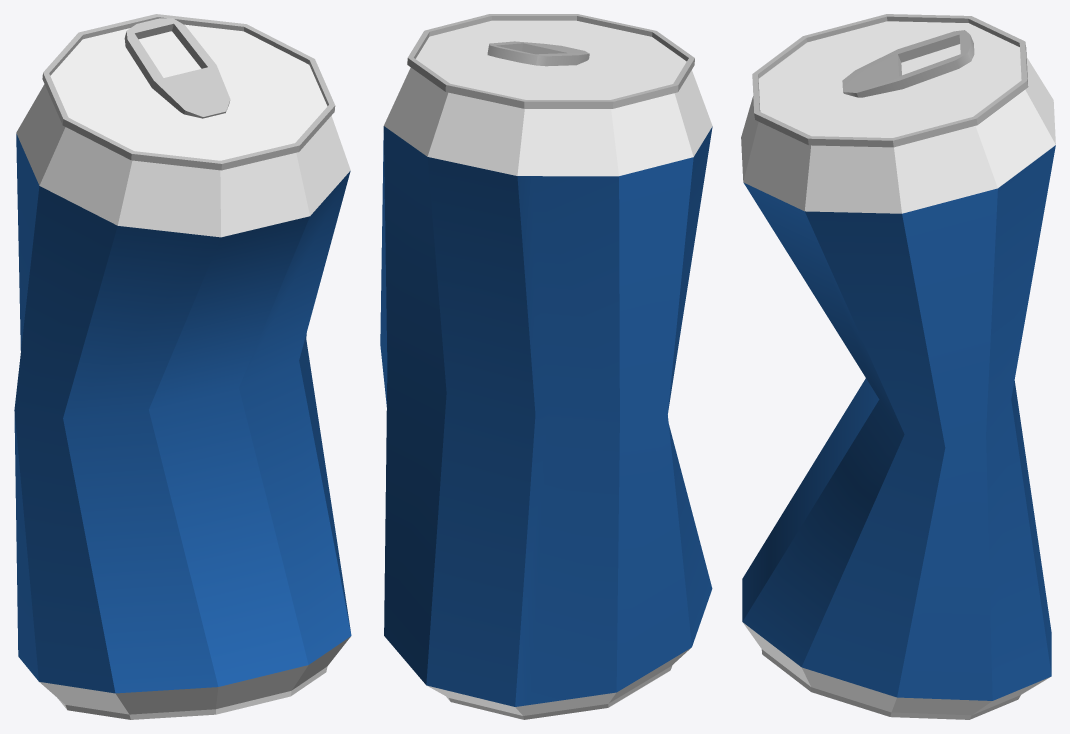
The model's file is crushedcan_b.fbx.
3 renders of one model, left to right at view 1: azimuth 30°, elevation 25°; view 2: azimuth 150°, elevation 25°; view 3: azimuth 270°, elevation 25°, orthographic.
Visible parts, largest first — view 1: CrushedCan_B; view 2: CrushedCan_B; view 3: CrushedCan_B.
Part boxes in pixels (left/top/right/bottom): CrushedCan_B: left=14, top=14, right=351, bottom=719; CrushedCan_B: left=380, top=14, right=712, bottom=719; CrushedCan_B: left=741, top=14, right=1055, bottom=719.
Bounding box in the file's own units: 0.098 × 0.2089 × 0.0929.
